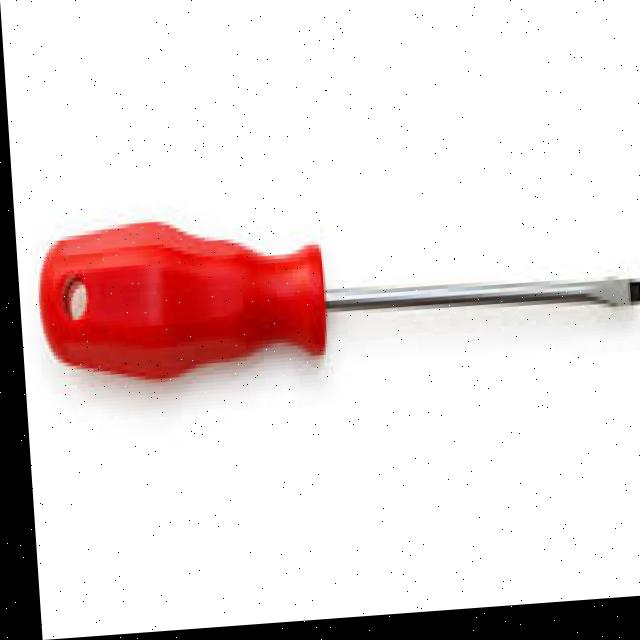Screwdriver: (36, 224, 638, 378)
